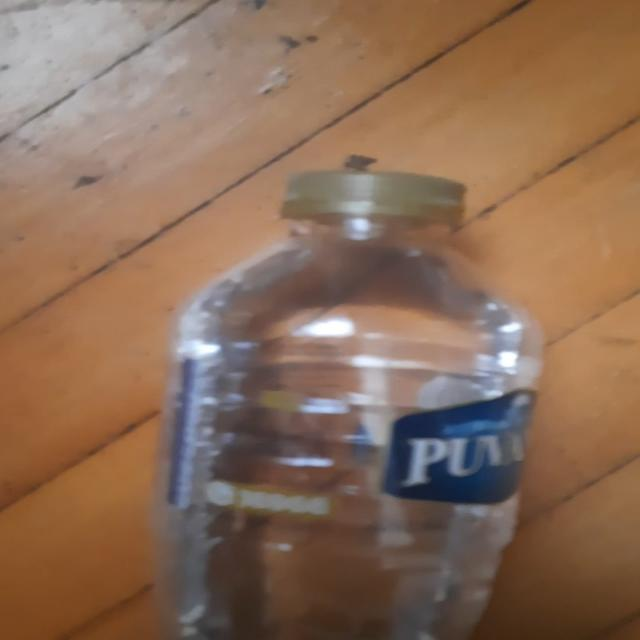Plastic: (148, 160, 545, 640), (173, 328, 548, 520), (278, 167, 458, 228)
